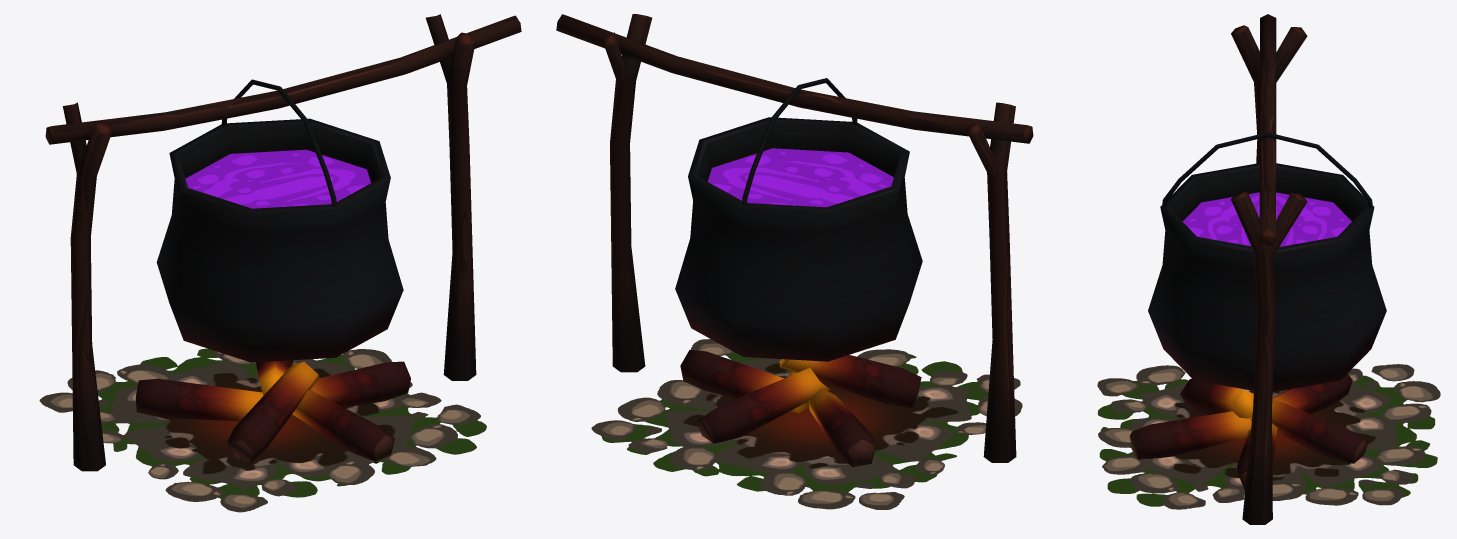
File: Cauldron.FBX
3 renders of one model, left to right at view 1: azimuth 30°, elevation 25°; view 2: azimuth 150°, elevation 25°; view 3: azimuth 270°, elevation 25°, orthographic. The views are drawn at different scales.
Parts seen in each view (by area): view 1: Cauldron; view 2: Cauldron; view 3: Cauldron.
Part boxes in pixels (bbox=[...]): Cauldron: bbox=[39, 14, 521, 512]; Cauldron: bbox=[556, 14, 1033, 509]; Cauldron: bbox=[1097, 14, 1440, 524].
Size of the model in its own units: 79.11 by 56.89 by 54.64.
